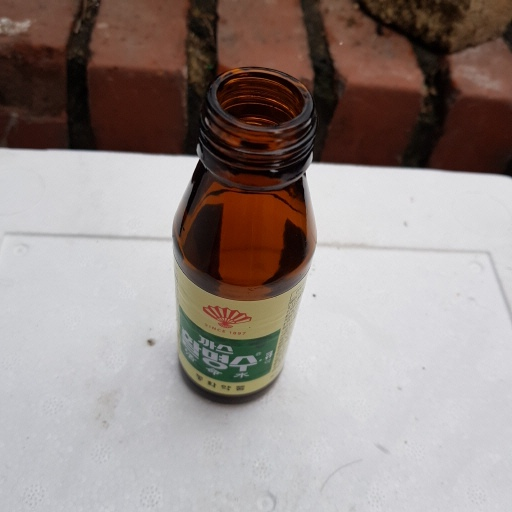Glass_3: (170, 66, 320, 407)
